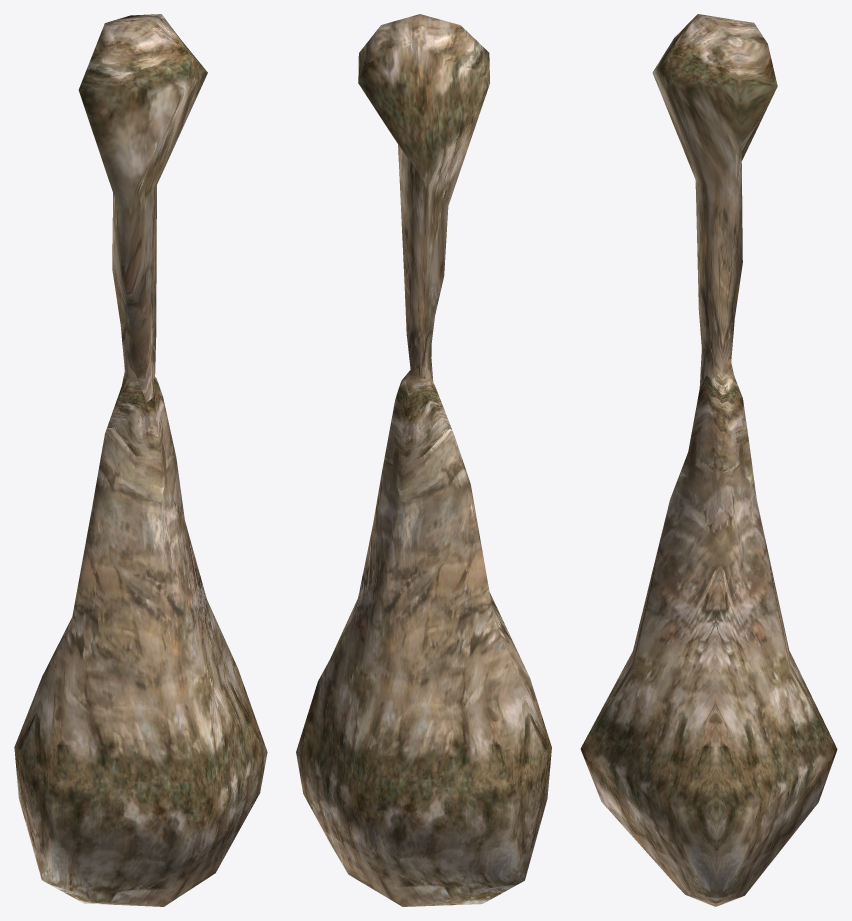
File: thm_all_cave_column_a1_l1.fbx
The picture shows the model from 3 angles, left to right: view 1: azimuth 30°, elevation 25°; view 2: azimuth 150°, elevation 25°; view 3: azimuth 270°, elevation 25°; orthographic projection.
Visible parts, largest first — view 1: mesh_node; view 2: mesh_node; view 3: mesh_node.
Boxes of the visible parts, x1,y1,x2,y2 form: mesh_node: (14,14,267,906); mesh_node: (296,14,551,906); mesh_node: (580,14,837,906).
Bounding box in the file's own units: 1.23 × 4.39 × 1.18.
